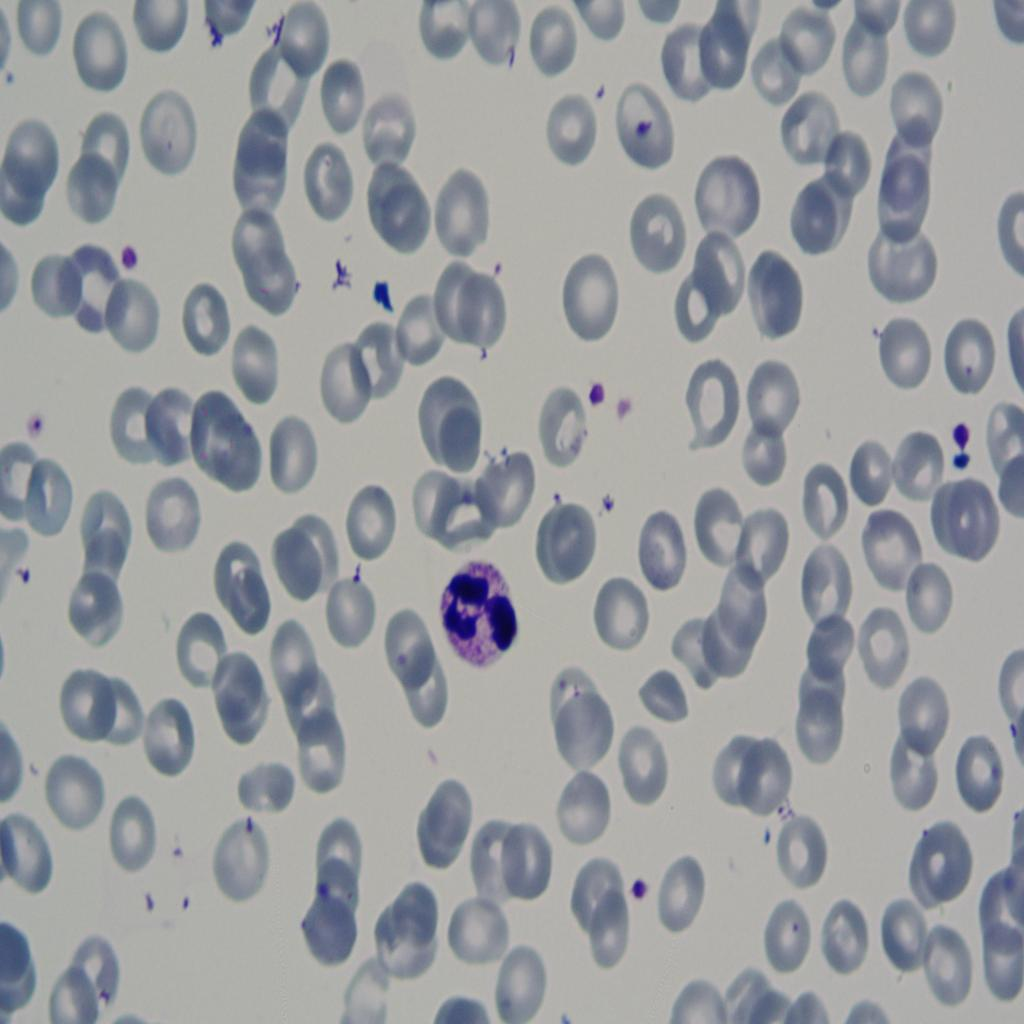Neutrofil: (435, 546, 535, 674)
Platelet: (623, 869, 654, 910), (111, 234, 140, 276), (632, 113, 659, 150), (368, 272, 390, 310), (951, 415, 976, 447), (598, 485, 618, 521), (15, 558, 37, 588), (586, 380, 606, 409), (24, 406, 42, 436), (956, 450, 972, 477), (616, 393, 628, 422)
